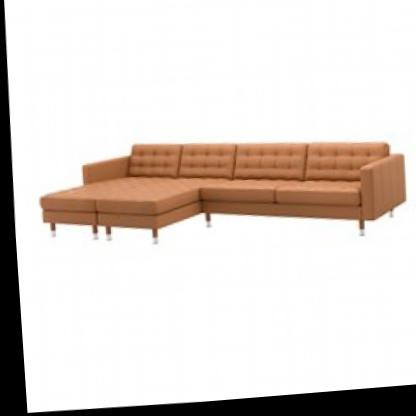Sofa: (24, 117, 407, 280)
